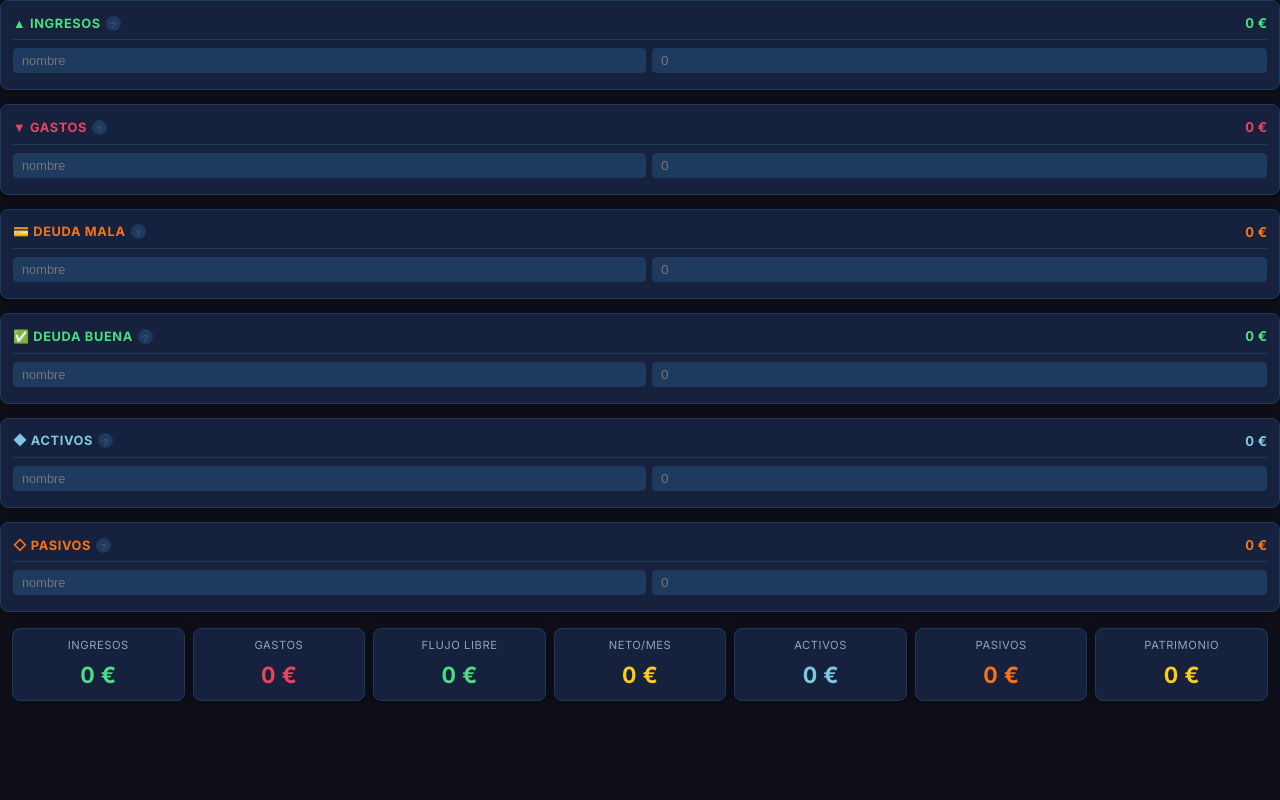
Scenario: FinanceBlocks integration › adding an income value updates KPI strip total
This screenshot has width=1280, height=800.
Type "2000" into the 1st field with placeholder "0" at (960, 61), box [652,48,1267,73]
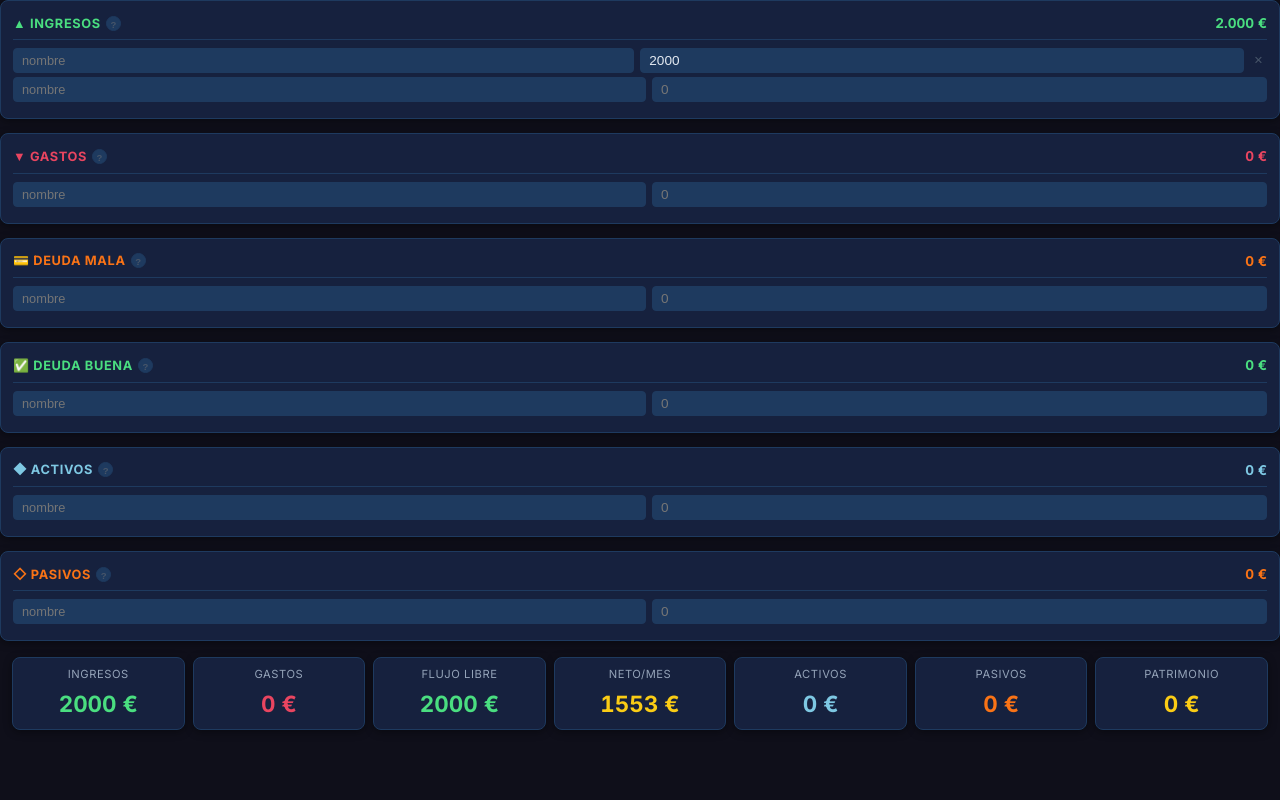
Expected: the text "2.000 €" is shown, [1215,13,1267,33]
